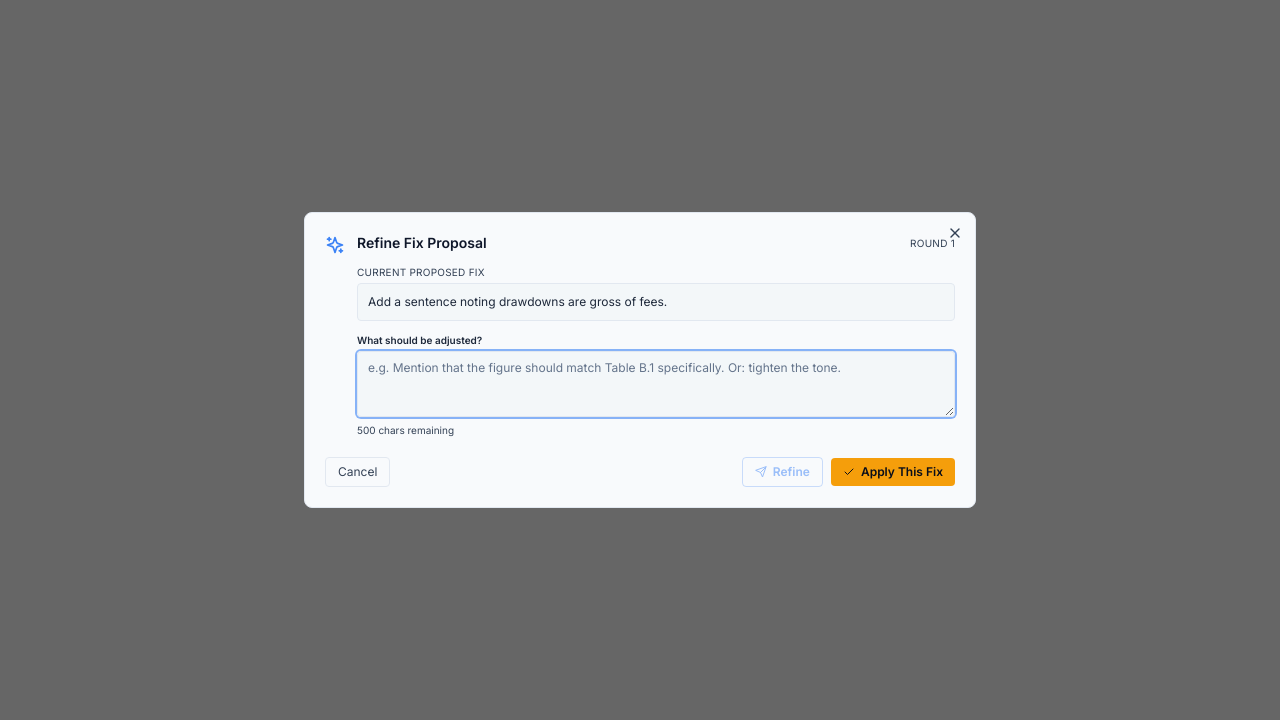
Test: RefinementModal › Refine error surfaces in-modal without dismissing
In the text box with test id "refinement-modal-note": (656, 384) [357,351,955,417], type "broken refinement"
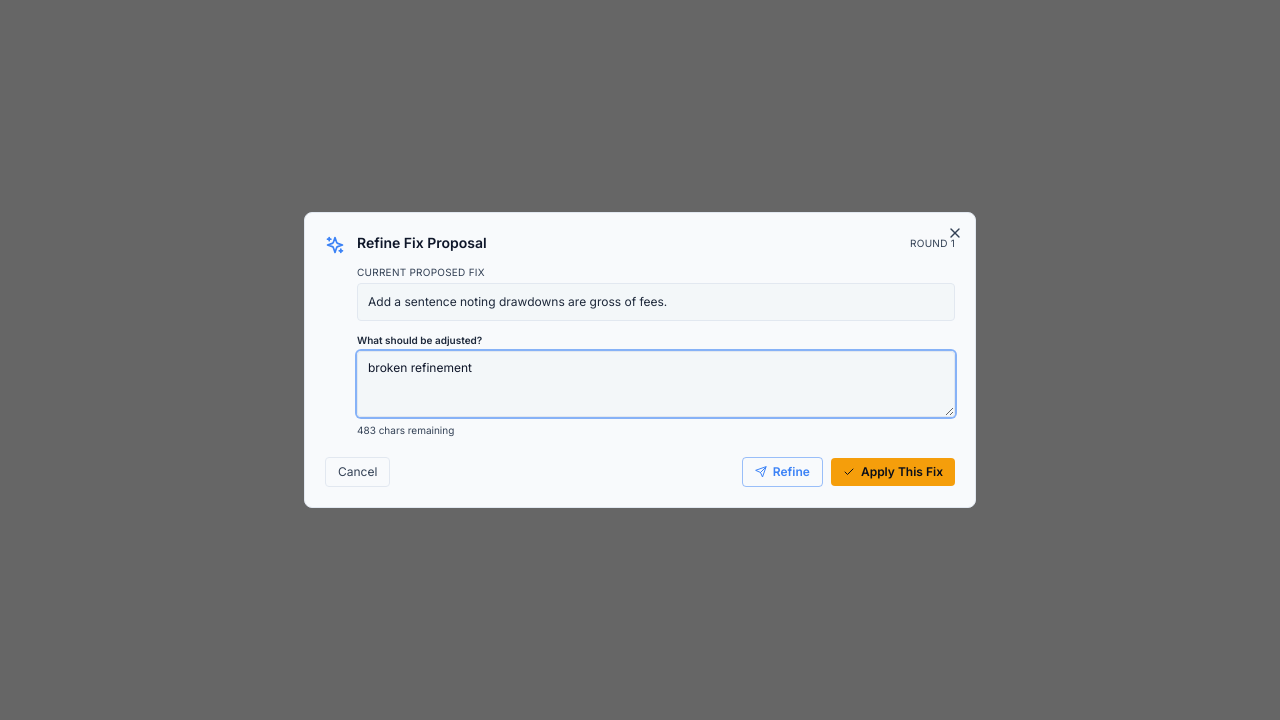
Click the button with test id "refinement-modal-refine": (782, 472) [742,457,823,487]
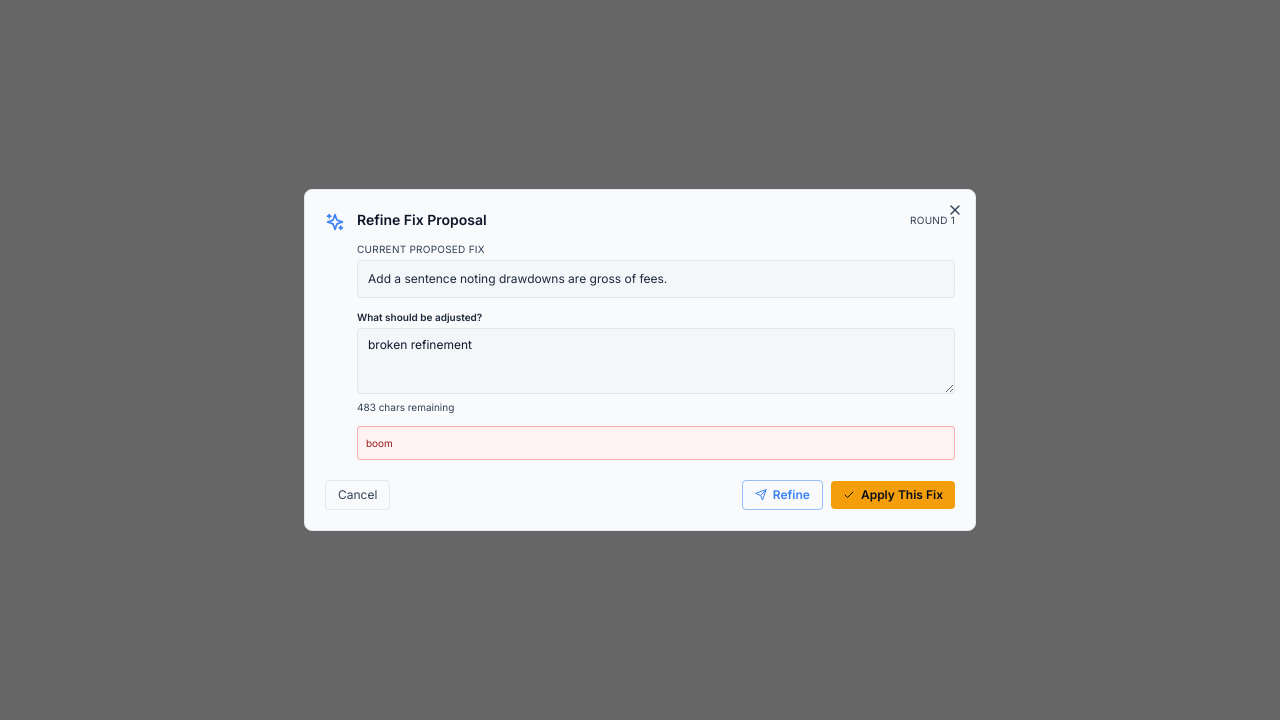
Check: the text with test id "refinement-modal-error" reads "boom", box [366,437,393,449]
